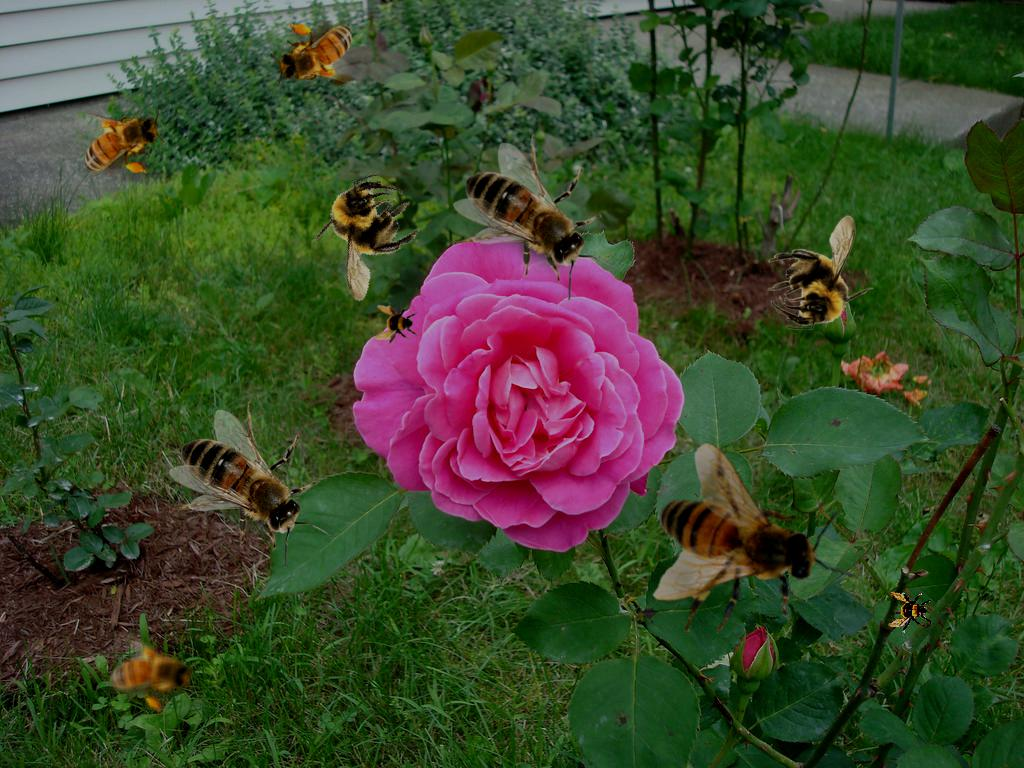Bee: (597, 402, 882, 688), (169, 401, 331, 568), (453, 134, 615, 301), (295, 164, 438, 311), (767, 215, 874, 330), (92, 622, 206, 725), (72, 109, 165, 177), (272, 20, 365, 88), (374, 303, 418, 347), (888, 590, 932, 634)
